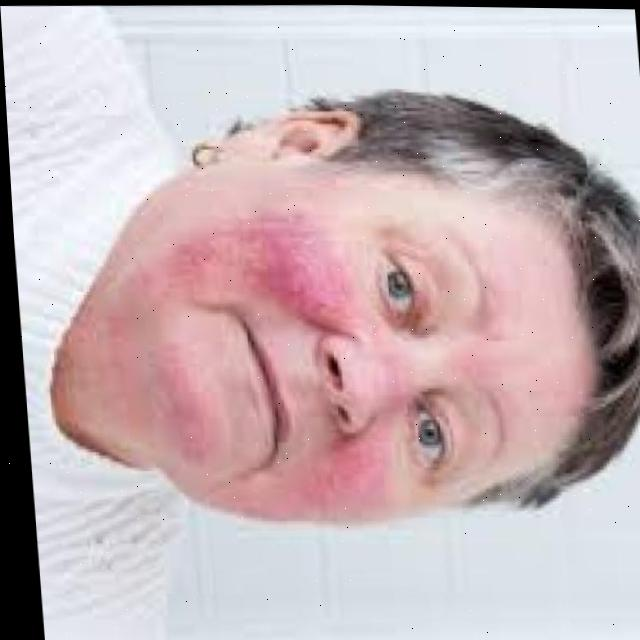Rosacea: (178, 226, 353, 296), (314, 435, 391, 509), (155, 380, 214, 470)
